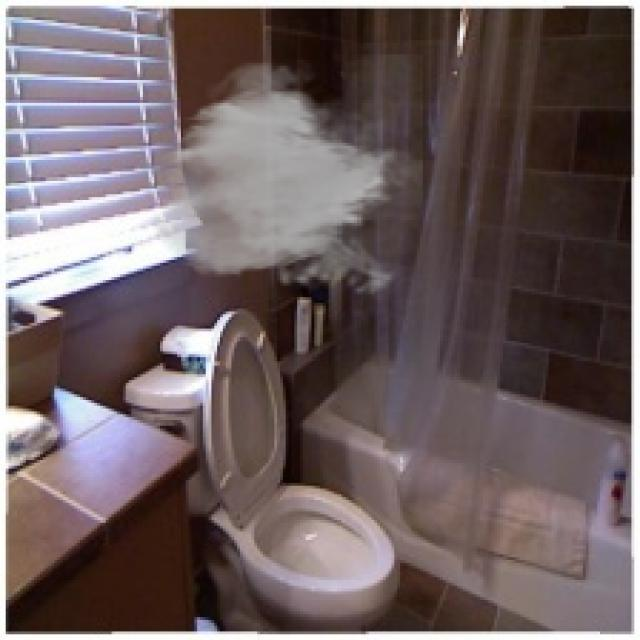Smoke: (148, 54, 423, 303)
